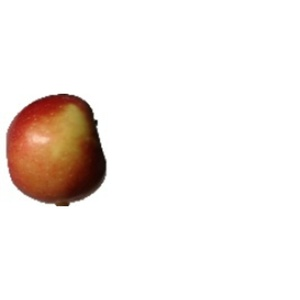maçã braeburn: (2, 91, 111, 206)
